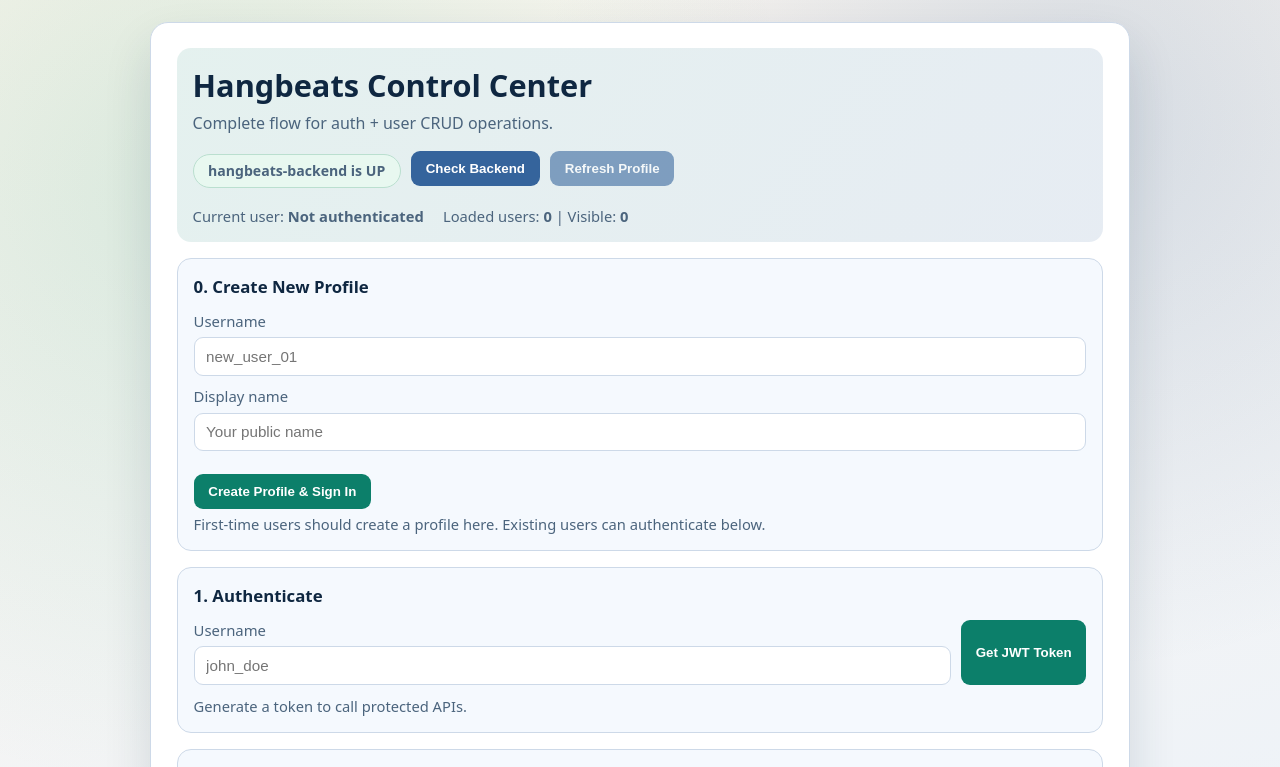
Test: App › generates token and loads users from API
Type "john" into the field with placeholder "john_doe" below "1. Authenticate" at (572, 666), box x1=194 y1=646 x2=951 y2=685
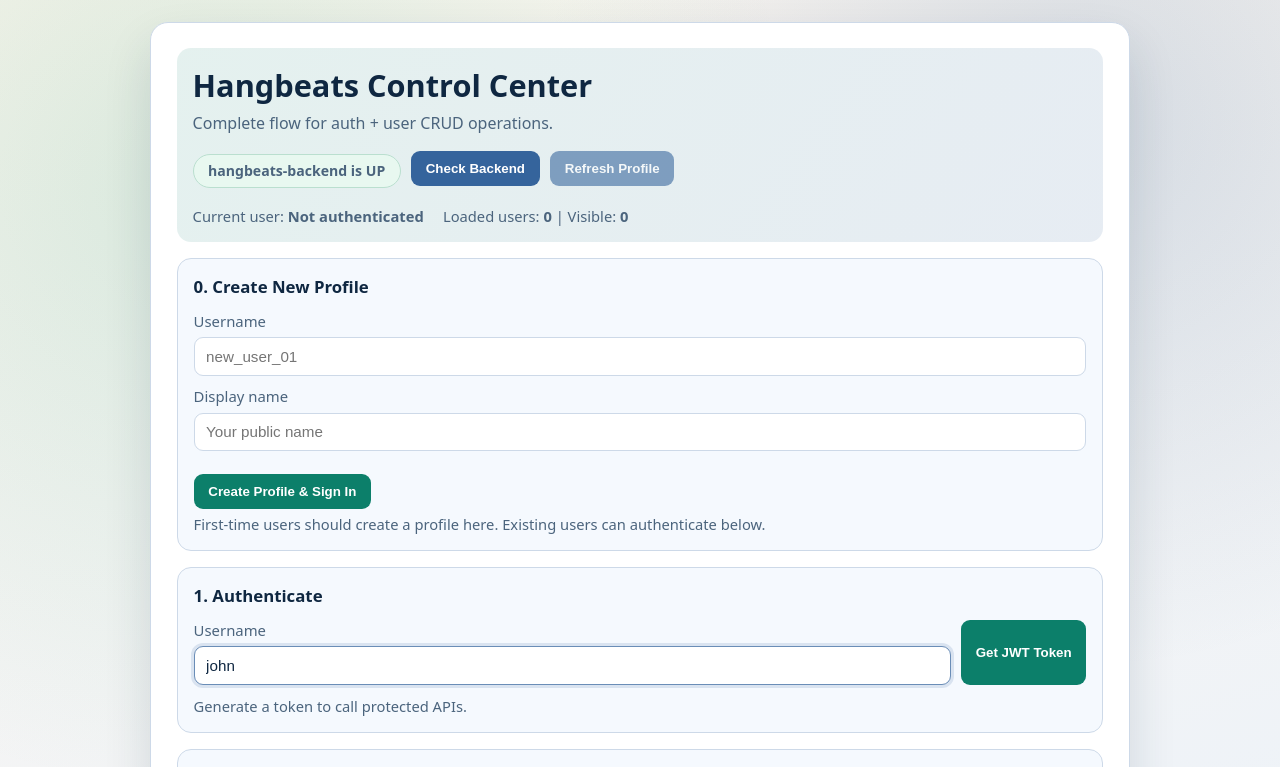
Click the button "Get JWT Token" at (1024, 653), box x1=961 y1=620 x2=1086 y2=685
(page scrolled)
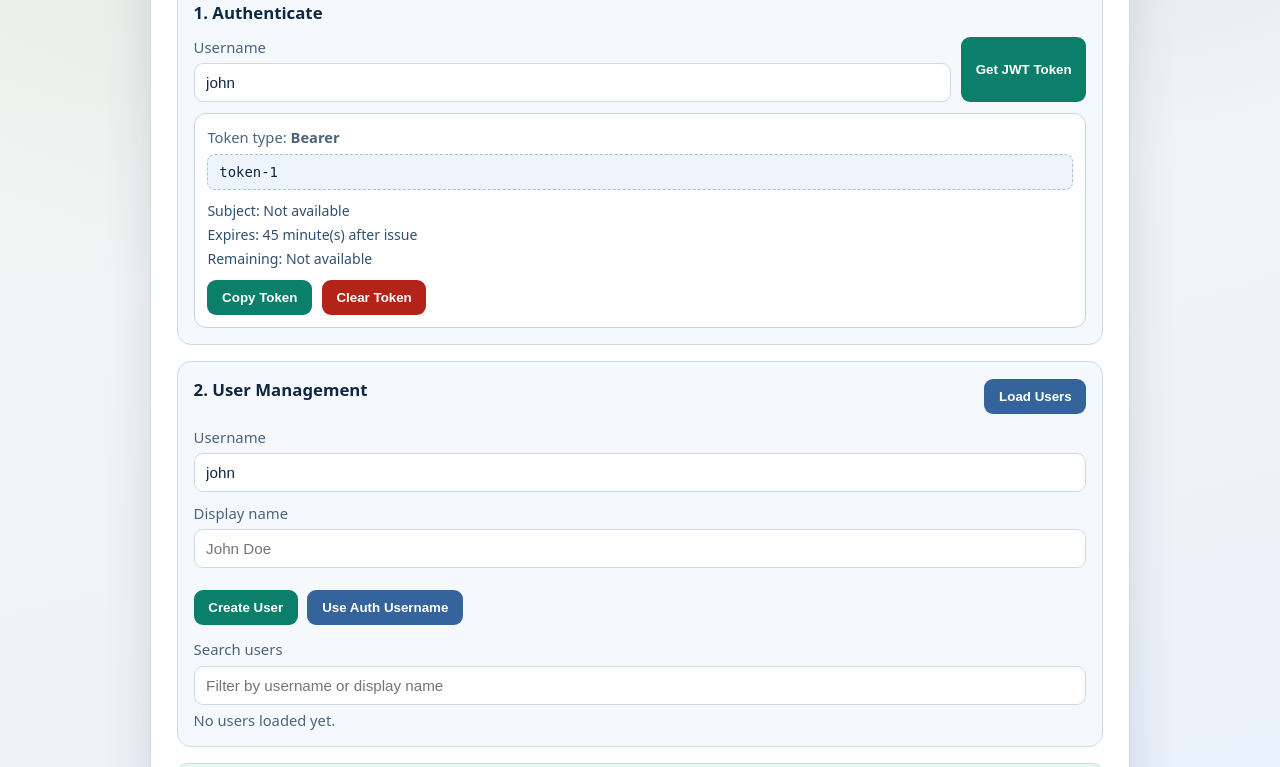
Click the button "Load Users" at (1035, 396), box x1=984 y1=379 x2=1086 y2=414
(page scrolled)
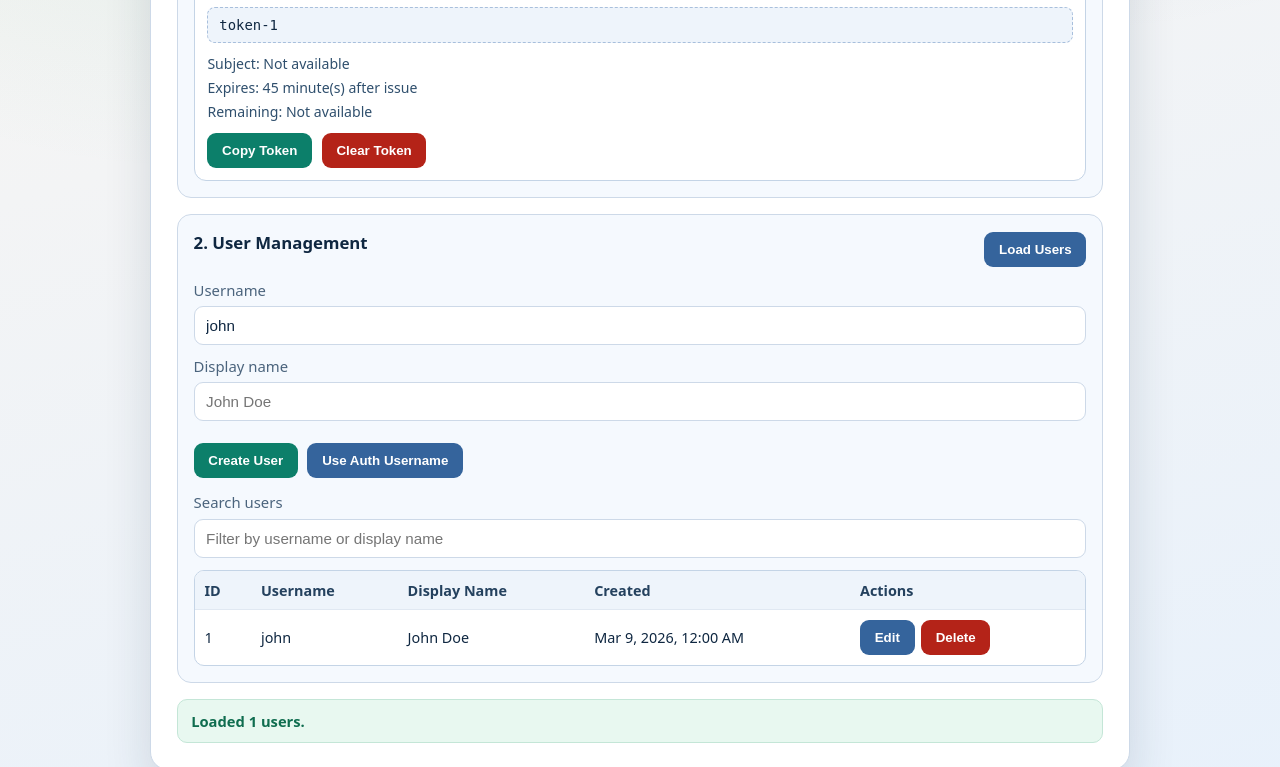
Now the text "Loaded 1 users." is shown, box x1=177 y1=699 x2=1103 y2=744
Now the cell "john" is shown, box x1=251 y1=610 x2=398 y2=665
